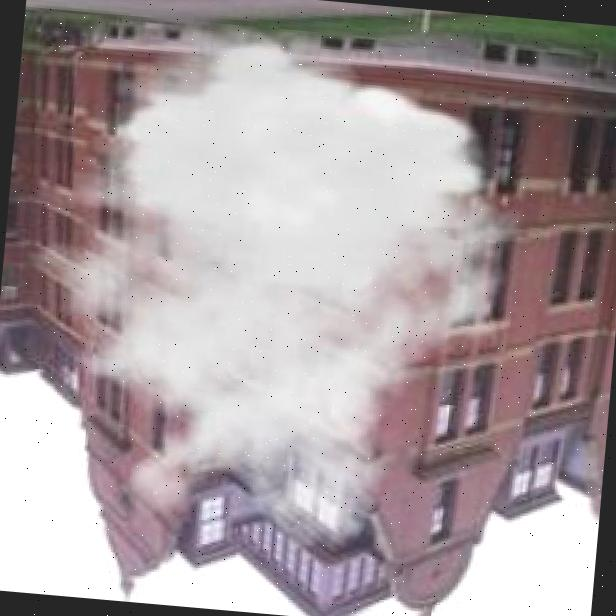smoke: (0, 4, 548, 568)
